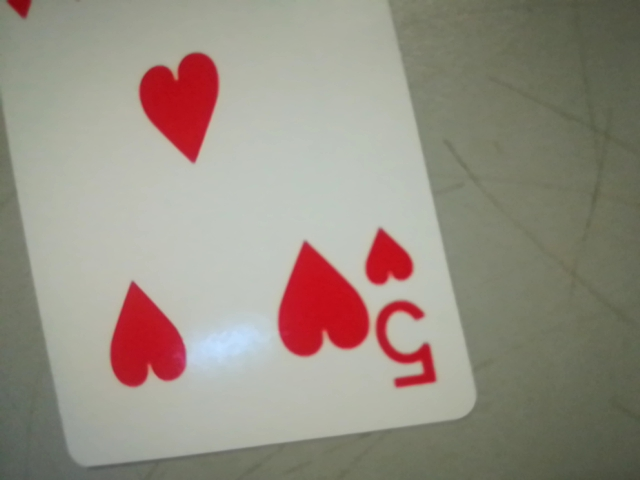hx 5: (356, 212, 450, 405)
